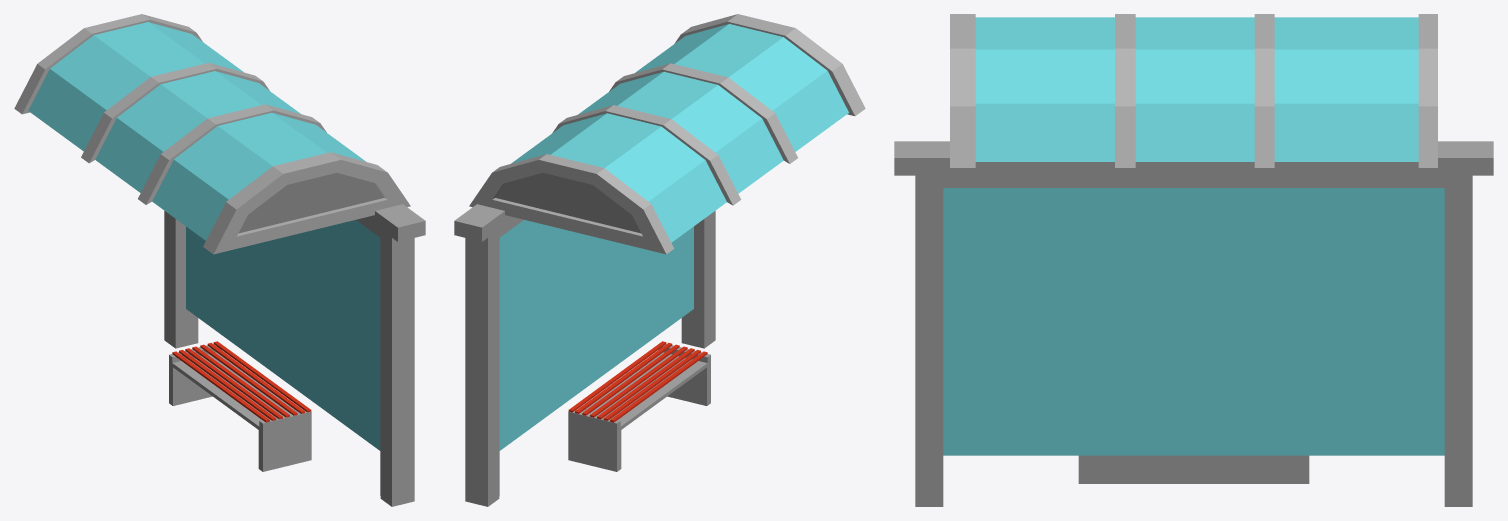
File: bus_station1.fbx
The picture shows the model from 3 angles, left to right: view 1: azimuth 30°, elevation 25°; view 2: azimuth 150°, elevation 25°; view 3: azimuth 270°, elevation 25°; orthographic projection. The views are drawn at different scales.
Parts seen in each view (by area): view 1: station_cover, glass, station_cover_2, station, bench, wooden_bench, station_cover_3; view 2: station_cover, glass, station_cover_2, station, bench, wooden_bench, station_cover_3; view 3: glass, station_cover, station, station_cover_2, bench.
Boxes of the visible parts, bbox=[...] form: station_cover: bbox=[28, 22, 366, 240]; glass: bbox=[186, 220, 380, 450]; station_cover_2: bbox=[14, 14, 410, 254]; station: bbox=[164, 204, 425, 506]; bench: bbox=[169, 344, 311, 471]; wooden_bench: bbox=[172, 341, 311, 422]; station_cover_3: bbox=[239, 172, 384, 233]; station_cover: bbox=[511, 24, 848, 242]; glass: bbox=[499, 220, 693, 450]; station_cover_2: bbox=[469, 14, 865, 254]; station: bbox=[454, 204, 715, 506]; bench: bbox=[568, 344, 710, 471]; wooden_bench: bbox=[568, 341, 707, 422]; station_cover_3: bbox=[495, 173, 640, 233]; glass: bbox=[943, 188, 1444, 455]; station_cover: bbox=[975, 17, 1418, 161]; station: bbox=[894, 141, 1493, 506]; station_cover_2: bbox=[950, 14, 1437, 167]; bench: bbox=[1078, 455, 1309, 483].
Bounding box in the file's own units: 409 × 684 × 879.
